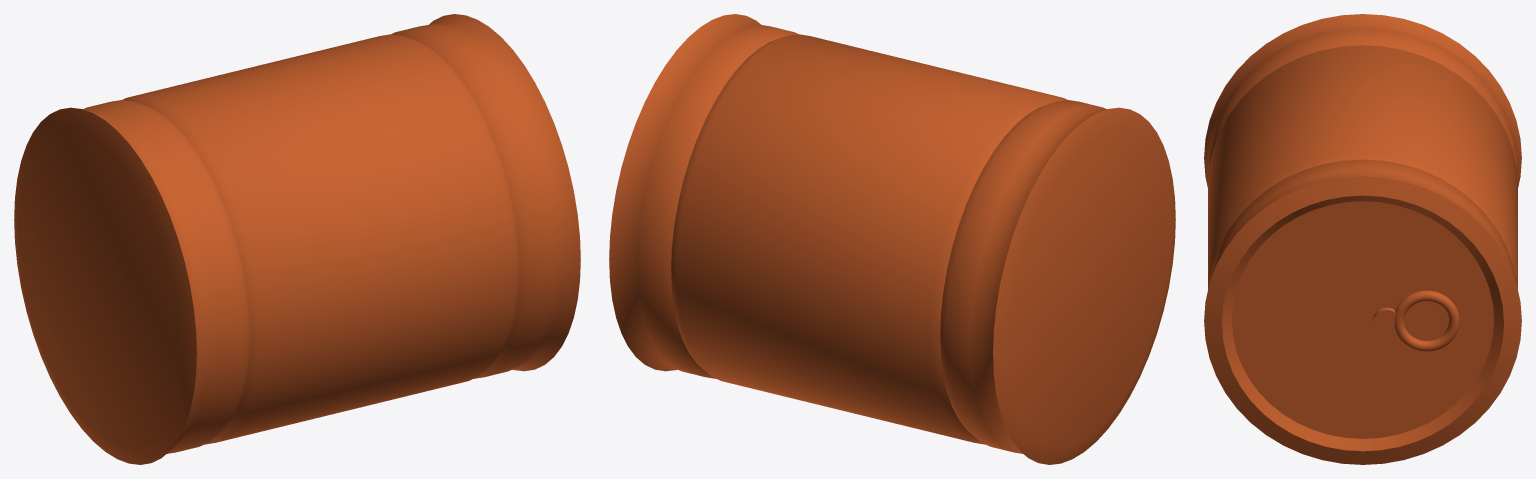
Rendered from BeanCan.fbx.
3 renders of one model, left to right at view 1: azimuth 30°, elevation 25°; view 2: azimuth 150°, elevation 25°; view 3: azimuth 270°, elevation 25°, orthographic. The views are drawn at different scales.
Parts seen in each view (by area): view 1: BeanCan; view 2: BeanCan; view 3: BeanCan.
Boxes of the visible parts, x1,y1,x2,y2 form: BeanCan: (14, 14, 580, 464); BeanCan: (609, 14, 1175, 464); BeanCan: (1204, 14, 1521, 464).
Bounding box in the file's own units: 10 × 8 × 8.
